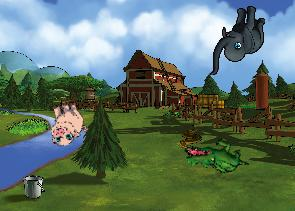crocodile: (182, 132, 249, 182)
elephant: (209, 5, 265, 75)
pig: (42, 98, 89, 147)
